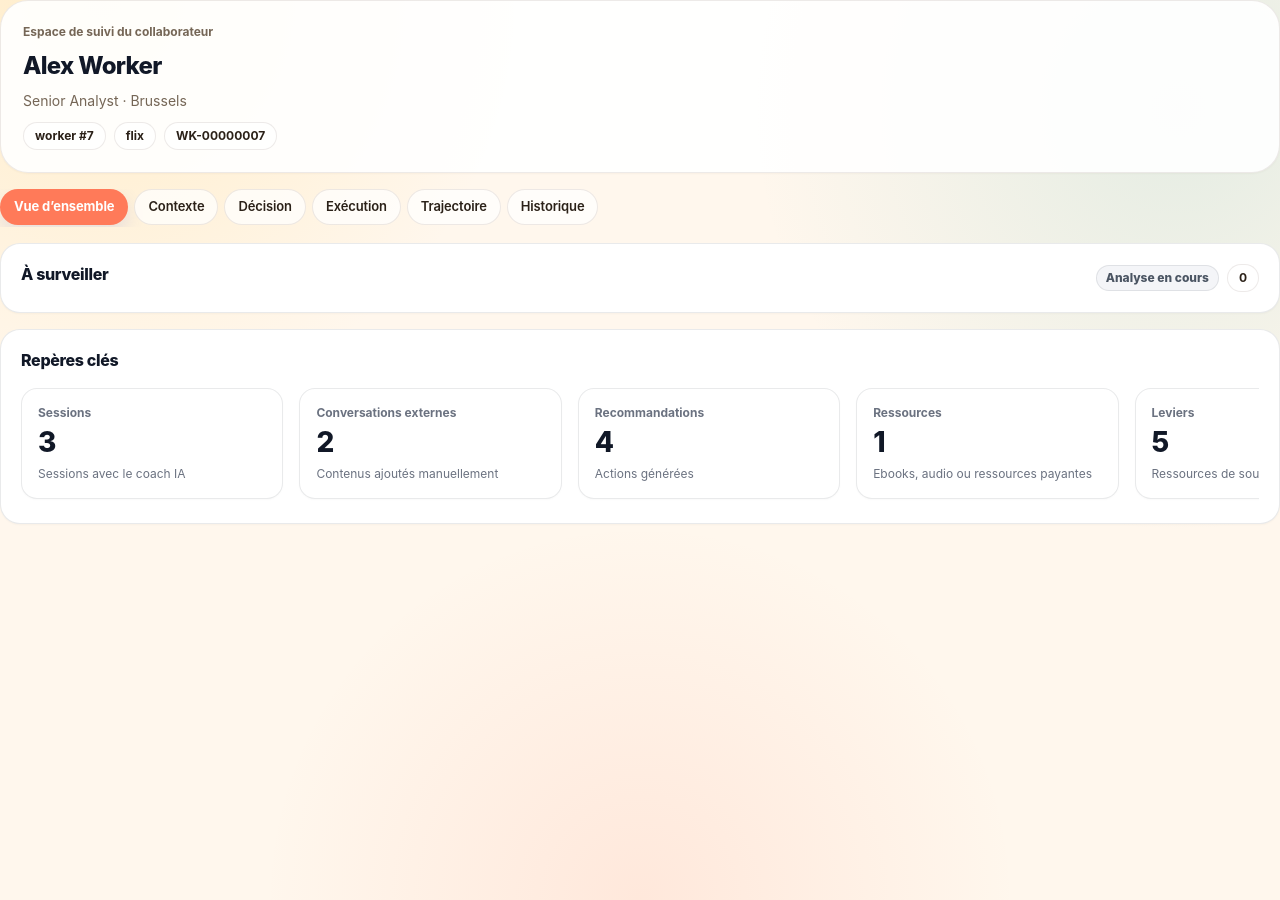
Test: Organization Insights internationalization › localizes Professional Mandate clarification support in French
Click the tab "Contexte": (176,207) [134,189,218,225]
(page scrolled)
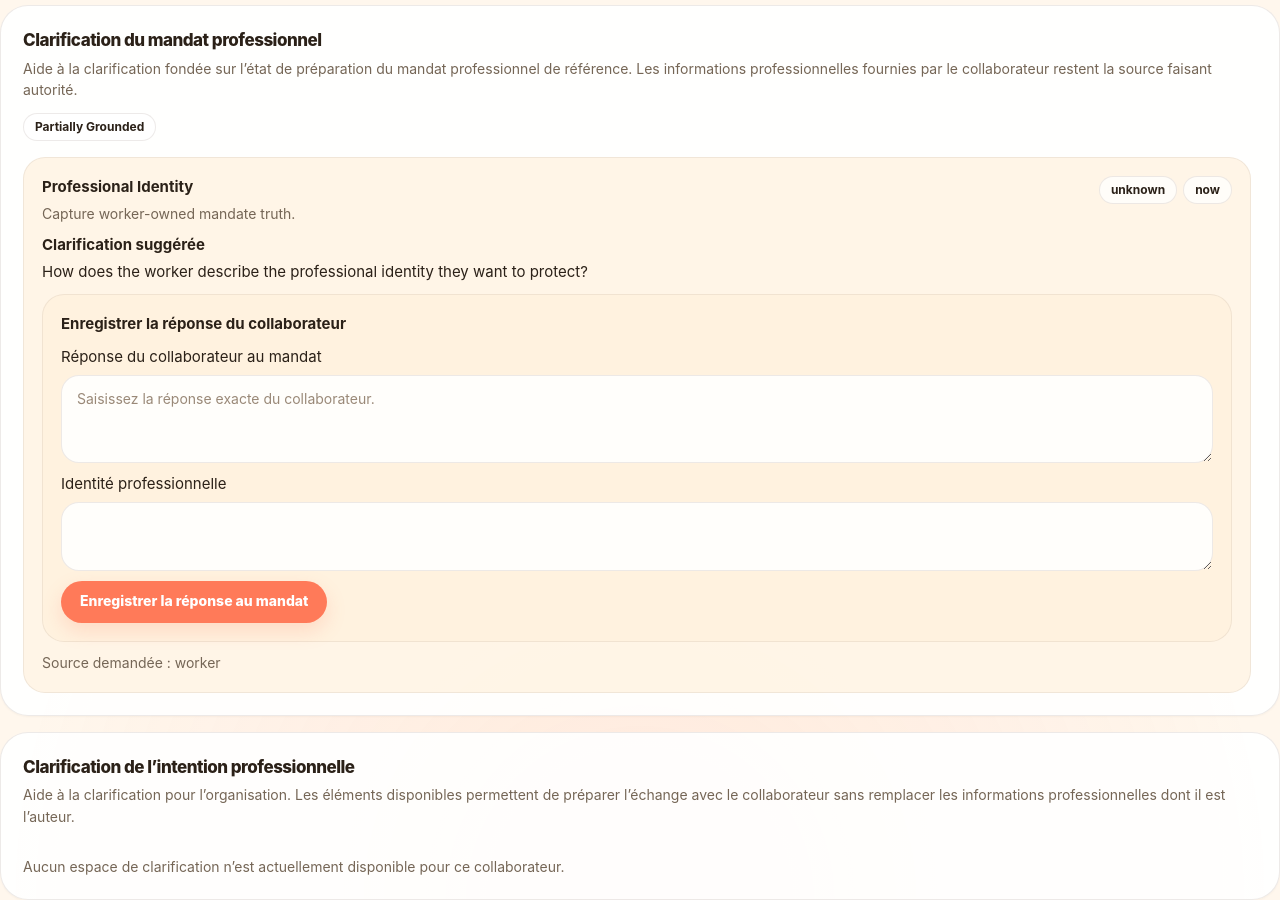
Expected: the text "Clarification du mandat professionnel" is shown, [23,30,322,50]
Expected: the text "Clarification suggérée" is shown, [42,235,205,254]
Expected: the text "Enregistrer la réponse du collaborateur" is shown, [61,314,346,333]
